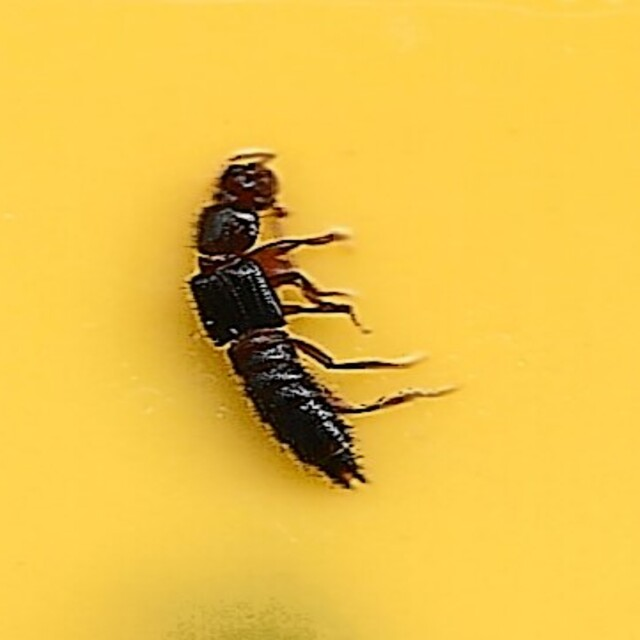Coleoptera: (177, 148, 463, 492)
